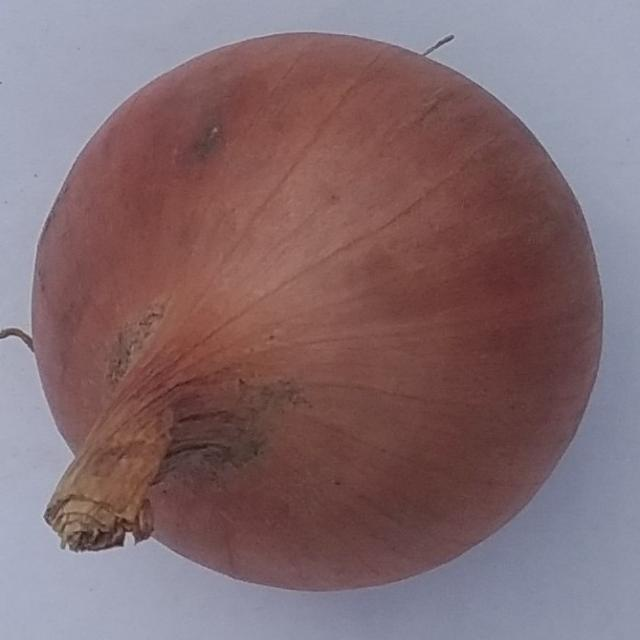onion: (29, 29, 608, 593)
